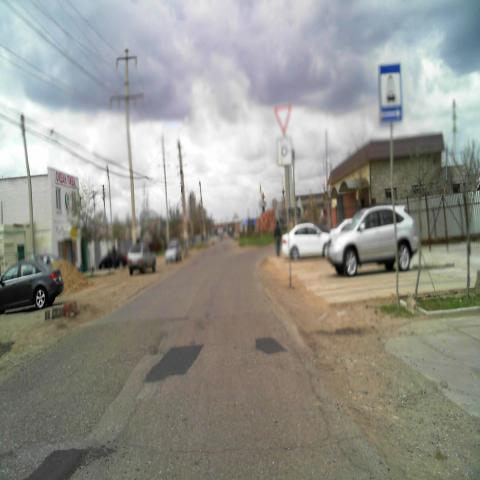8_13_1: (275, 134, 294, 166)
